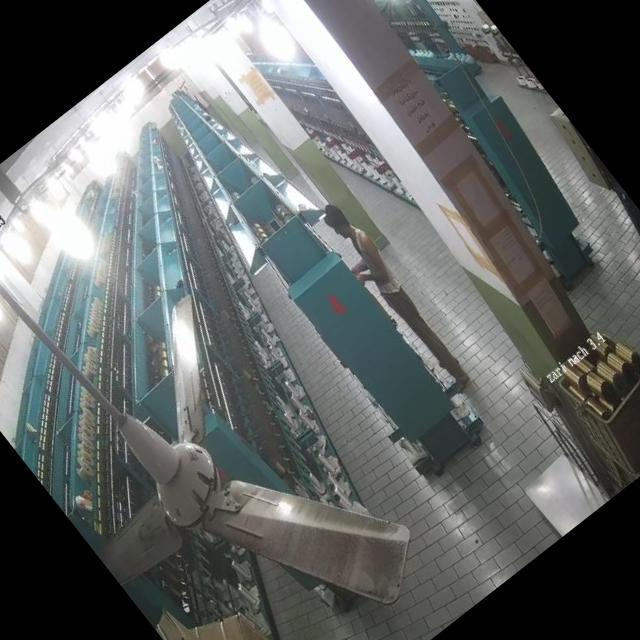person: (312, 196, 480, 397)
